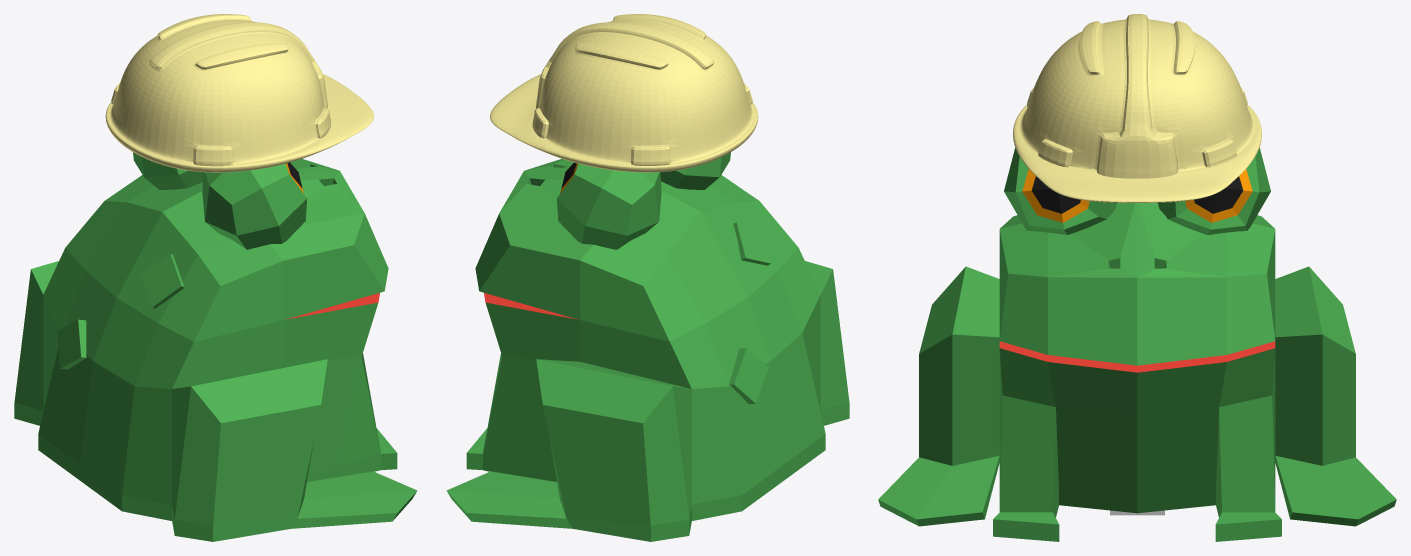
The model's file is frog-hardhat.glb.
3 renders of one model, left to right at view 1: azimuth 30°, elevation 25°; view 2: azimuth 150°, elevation 25°; view 3: azimuth 270°, elevation 25°, orthographic. The views are drawn at different scales.
Visible parts, largest first — view 1: Frog_01_Cube.029, Cube.001; view 2: Frog_01_Cube.029, Cube.001; view 3: Frog_01_Cube.029, Cube.001.
Boxes of the visible parts, <box> form: Frog_01_Cube.029: <box>14,152,417,541</box>; Cube.001: <box>105,14,373,172</box>; Frog_01_Cube.029: <box>446,152,849,541</box>; Cube.001: <box>490,14,758,172</box>; Frog_01_Cube.029: <box>878,148,1396,541</box>; Cube.001: <box>1013,14,1261,202</box>.
Size of the model in its own units: 12.88 by 18.89 by 18.81.
